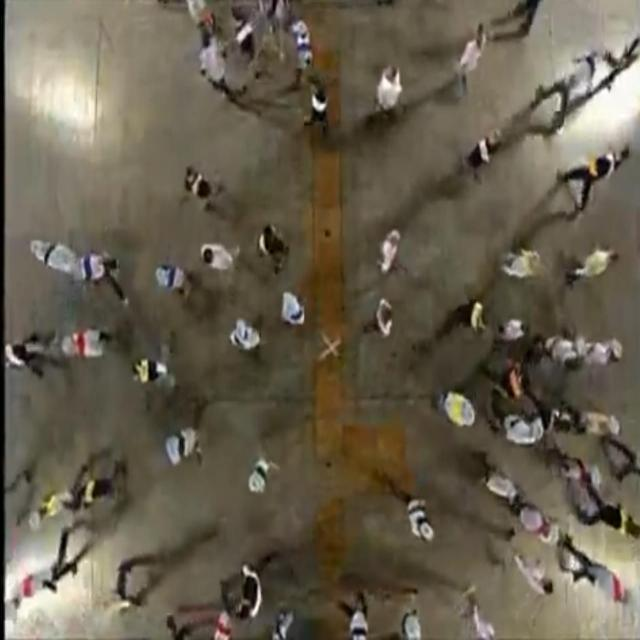humans: (28, 230, 132, 310), (23, 454, 136, 520), (526, 44, 606, 130), (557, 141, 635, 221), (562, 532, 638, 612), (491, 527, 556, 599), (576, 476, 640, 547), (8, 322, 118, 363), (231, 542, 276, 628), (454, 123, 506, 189), (470, 452, 527, 512), (127, 330, 179, 395), (451, 17, 491, 100), (494, 495, 562, 542), (179, 160, 226, 220), (424, 382, 479, 432), (251, 216, 294, 276), (566, 245, 622, 289), (161, 422, 208, 474), (370, 59, 405, 128), (541, 449, 603, 487), (152, 252, 198, 302), (538, 330, 592, 372), (399, 492, 438, 549), (494, 240, 545, 282), (271, 285, 311, 338), (540, 398, 589, 436), (303, 77, 331, 142), (358, 294, 398, 339), (373, 223, 405, 278), (226, 313, 265, 358), (196, 241, 239, 279), (458, 294, 496, 336), (243, 450, 276, 498), (586, 334, 626, 372), (582, 405, 622, 442), (493, 318, 534, 337)
